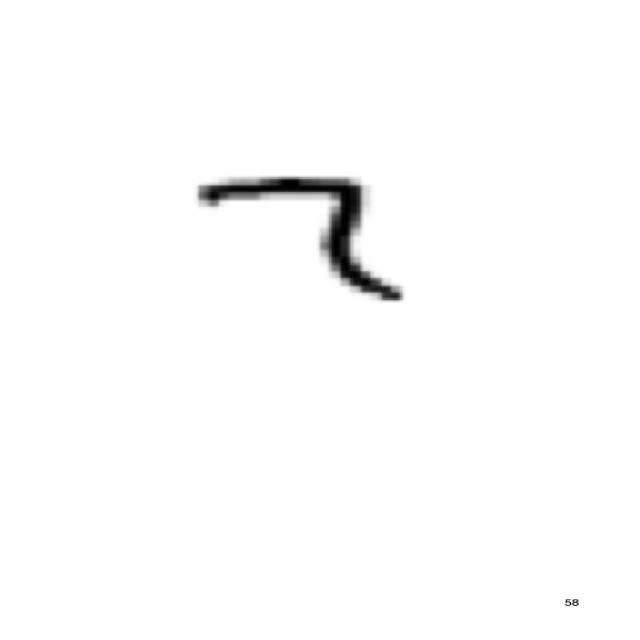6 -six-: (186, 164, 414, 314)
